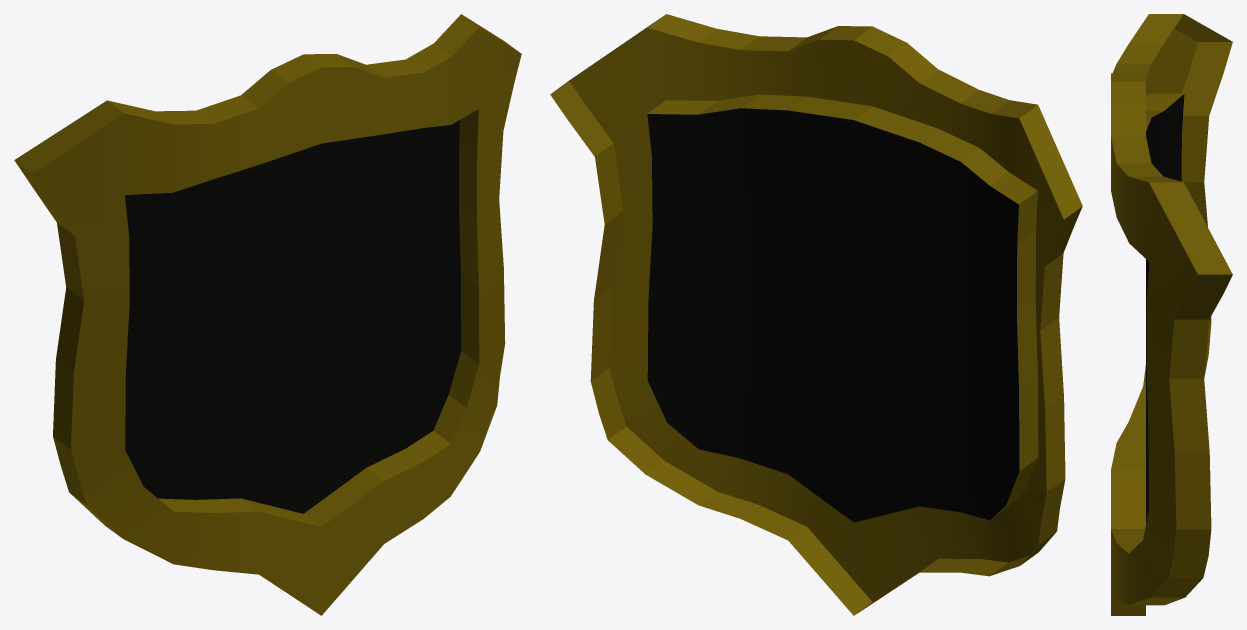
The model's file is shield.fbx.
3 views of the same model, side by side, from view 1: azimuth 30°, elevation 25°; view 2: azimuth 150°, elevation 25°; view 3: azimuth 270°, elevation 25° (orthographic). The views are drawn at different scales.
Visible parts, largest first — view 1: pPlane5; view 2: pPlane5; view 3: pPlane5.
Boxes of the visible parts, x1=… form: pPlane5: x1=14, y1=14, x2=521, y2=615; pPlane5: x1=550, y1=14, x2=1082, y2=615; pPlane5: x1=1111, y1=14, x2=1232, y2=615.
Bounding box in the file's own units: 5.79 × 6.2 × 1.28.
